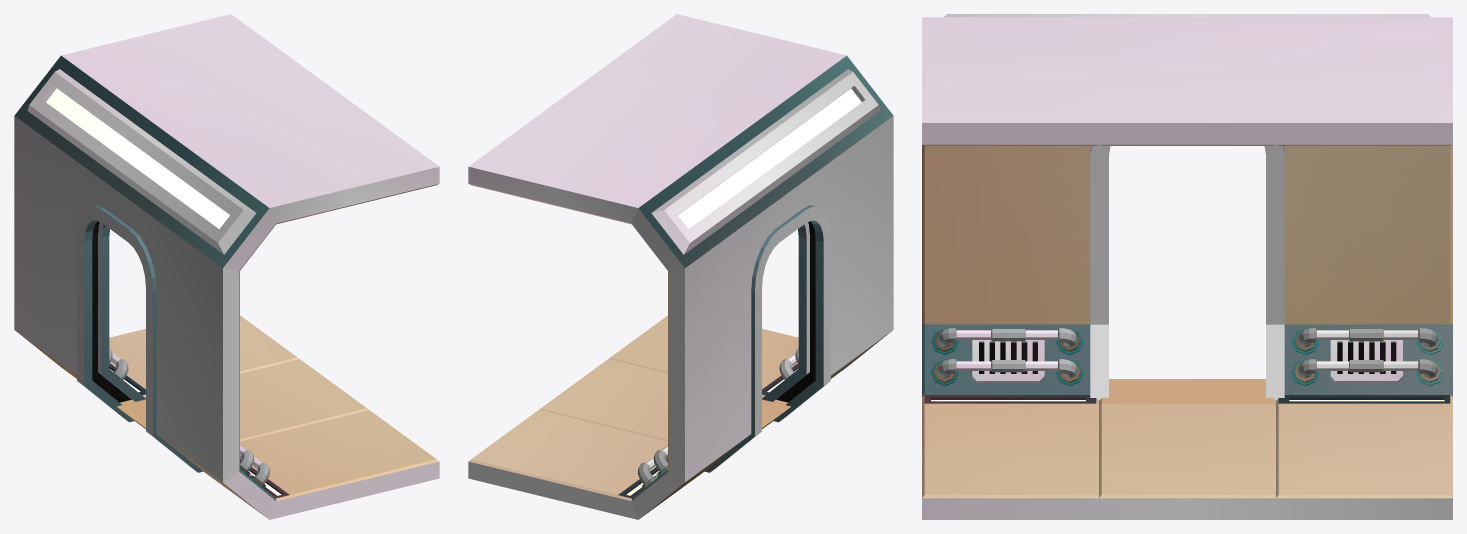
The model's file is C_DoorOut.fbx.
The picture shows the model from 3 angles, left to right: view 1: azimuth 30°, elevation 25°; view 2: azimuth 150°, elevation 25°; view 3: azimuth 270°, elevation 25°; orthographic projection. The views are drawn at different scales.
Parts seen in each view (by area): view 1: C_DoorOut; view 2: C_DoorOut; view 3: C_DoorOut.
Part boxes in pixels (box(x1,y1,x2,y2)): C_DoorOut: box(14, 14, 439, 519); C_DoorOut: box(468, 14, 893, 519); C_DoorOut: box(922, 14, 1452, 519).
Size of the model in its own units: 244 by 330 by 400.
